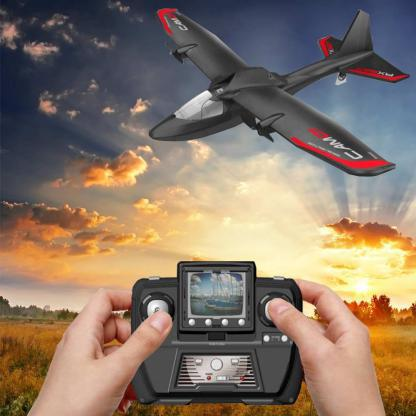CIV_Plane: (134, 6, 412, 184)
